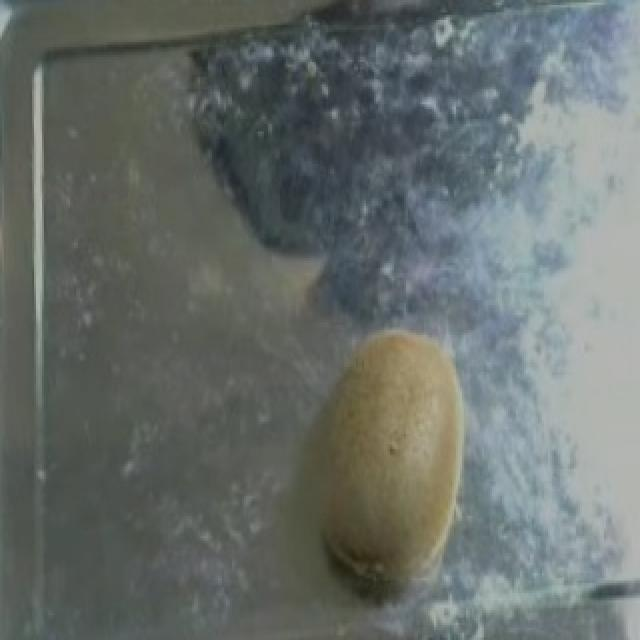Fruit: (272, 305, 500, 605)
